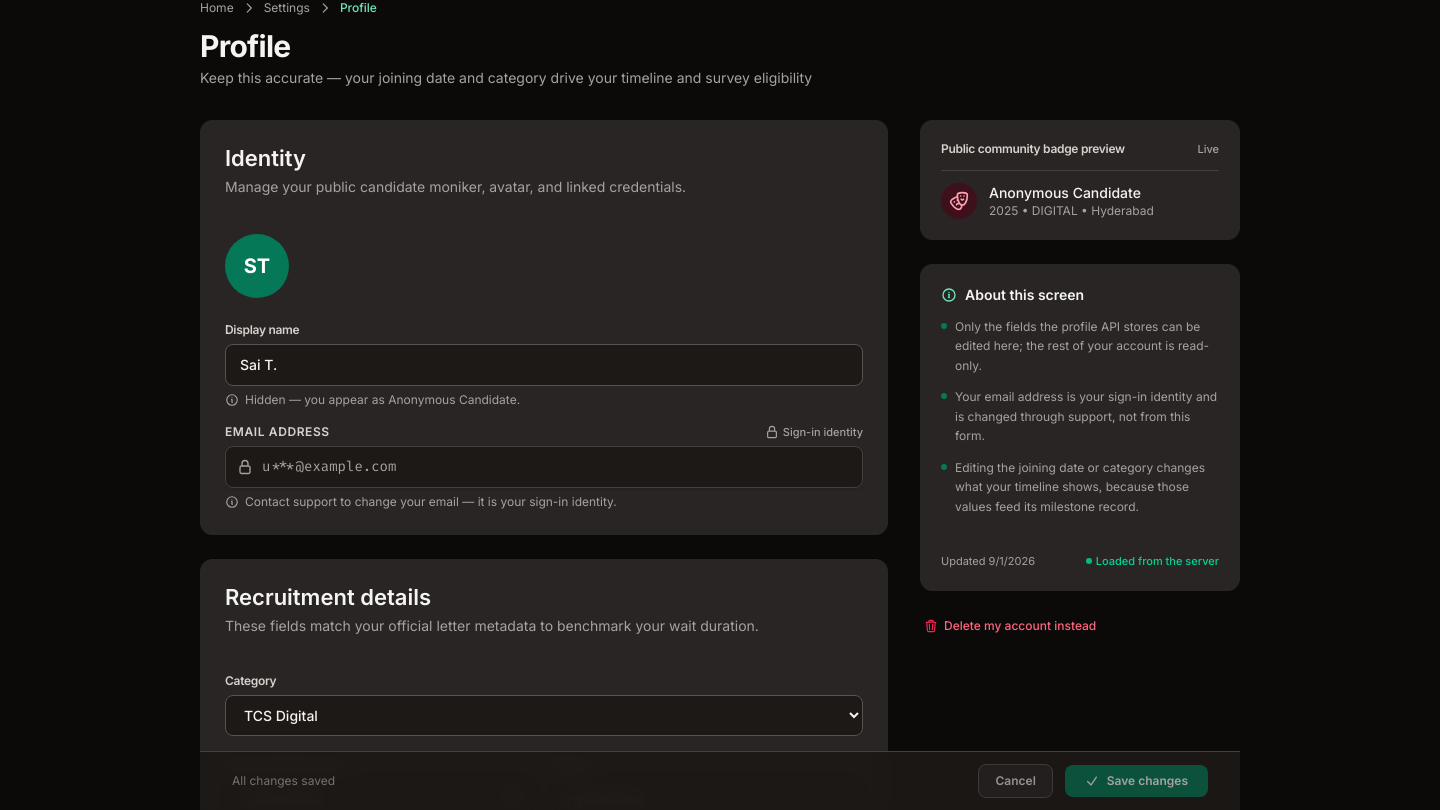
Test: SettingsProfilePage (9.5 Task 3) › saves edited fields via a partial PATCH and confirms
The image size is (1440, 810).
Replace the text in the field labelled "Display name" with "Sai Newname": [544, 364] box x1=225 y1=344 x2=863 y2=386
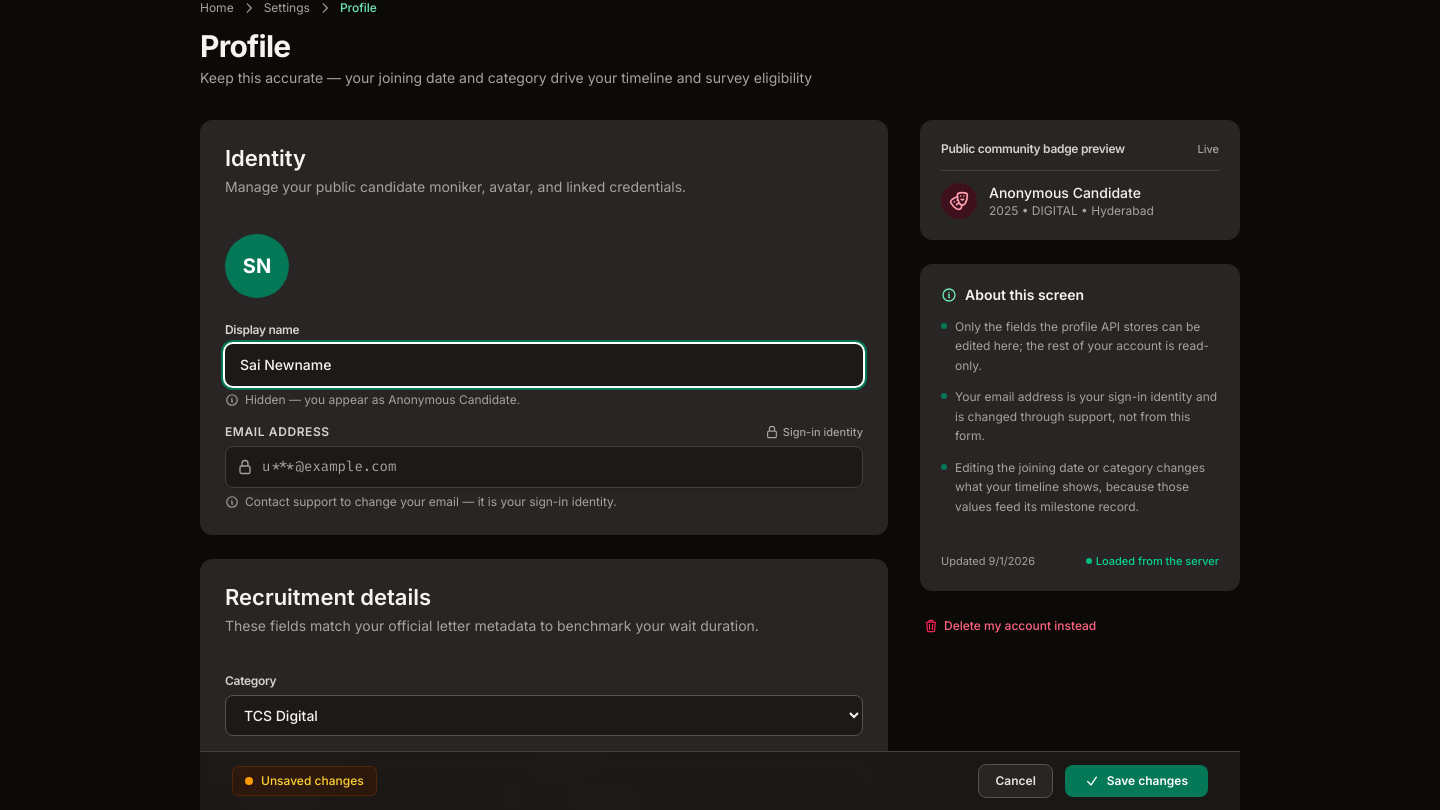
Click the button "Save changes": [1136, 781] box x1=1065 y1=765 x2=1208 y2=797
(page scrolled)
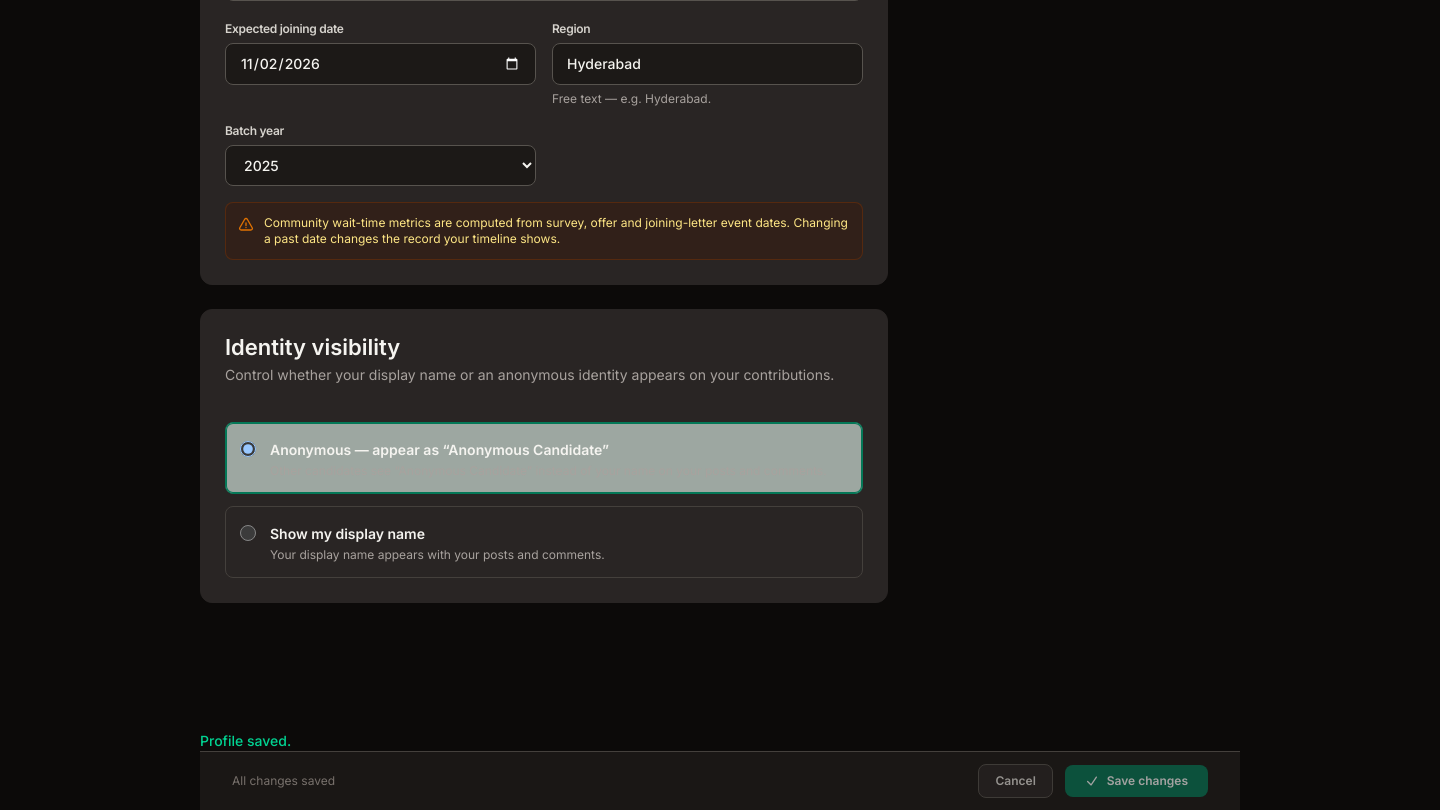
Now the message "Profile saved." is shown, box x1=200 y1=732 x2=291 y2=749
